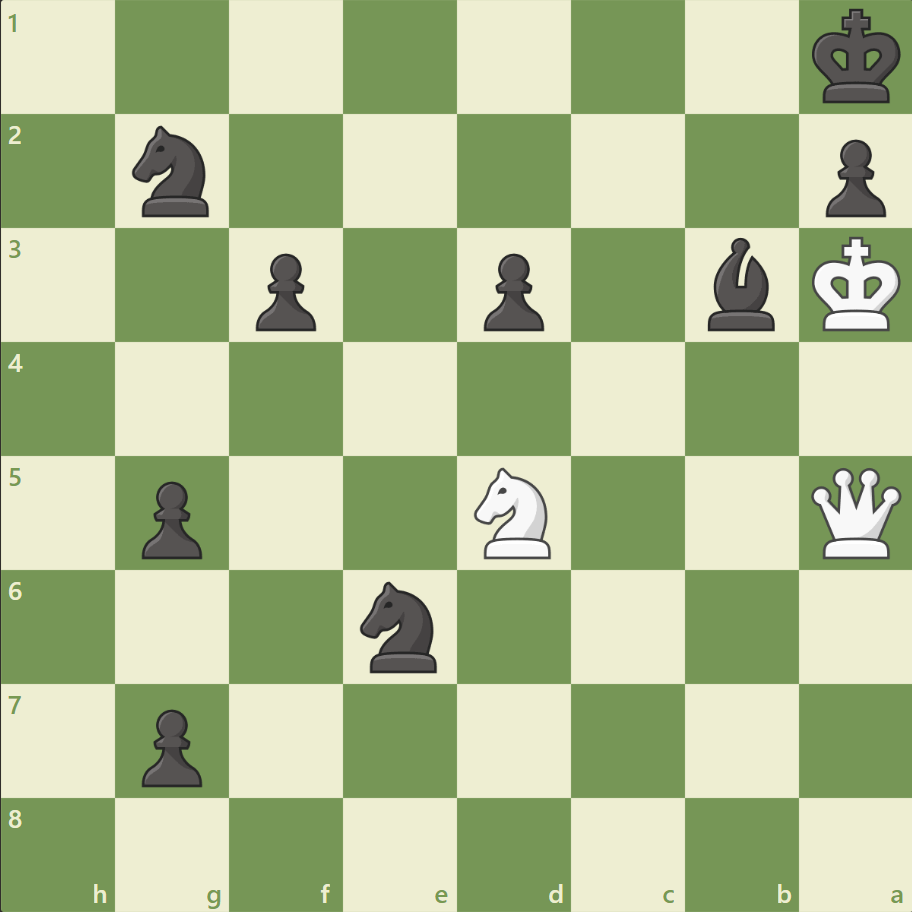K: (806, 231, 906, 339)
N: (465, 461, 562, 564)
Q: (805, 463, 904, 562)
b: (698, 233, 782, 336)
k: (806, 4, 906, 112)
n: (351, 575, 449, 677), (124, 121, 222, 223)
p: (133, 700, 208, 791), (133, 473, 208, 564), (474, 246, 549, 337), (247, 246, 322, 337), (815, 132, 889, 223)
